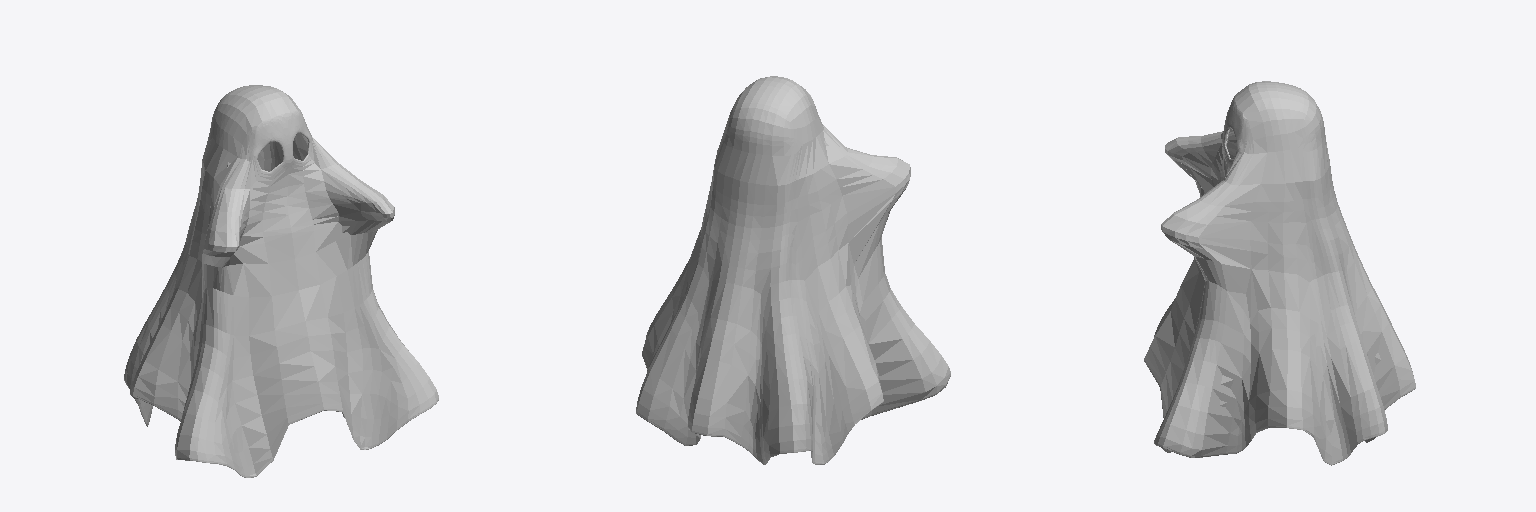
3 views of the same model, side by side, from view 1: azimuth 30°, elevation 25°; view 2: azimuth 150°, elevation 25°; view 3: azimuth 270°, elevation 25° (orthographic).
Visible parts, largest first — view 1: youlinguu2:Group3 walk1; view 2: youlinguu2:Group3 walk1; view 3: youlinguu2:Group3 walk1.
Boxes of the visible parts, <box> form: youlinguu2:Group3 walk1: <box>124,85,438,477</box>; youlinguu2:Group3 walk1: <box>636,76,950,464</box>; youlinguu2:Group3 walk1: <box>1144,81,1415,465</box>.
Bounding box in the file's own units: 31.57 × 39.83 × 29.02.